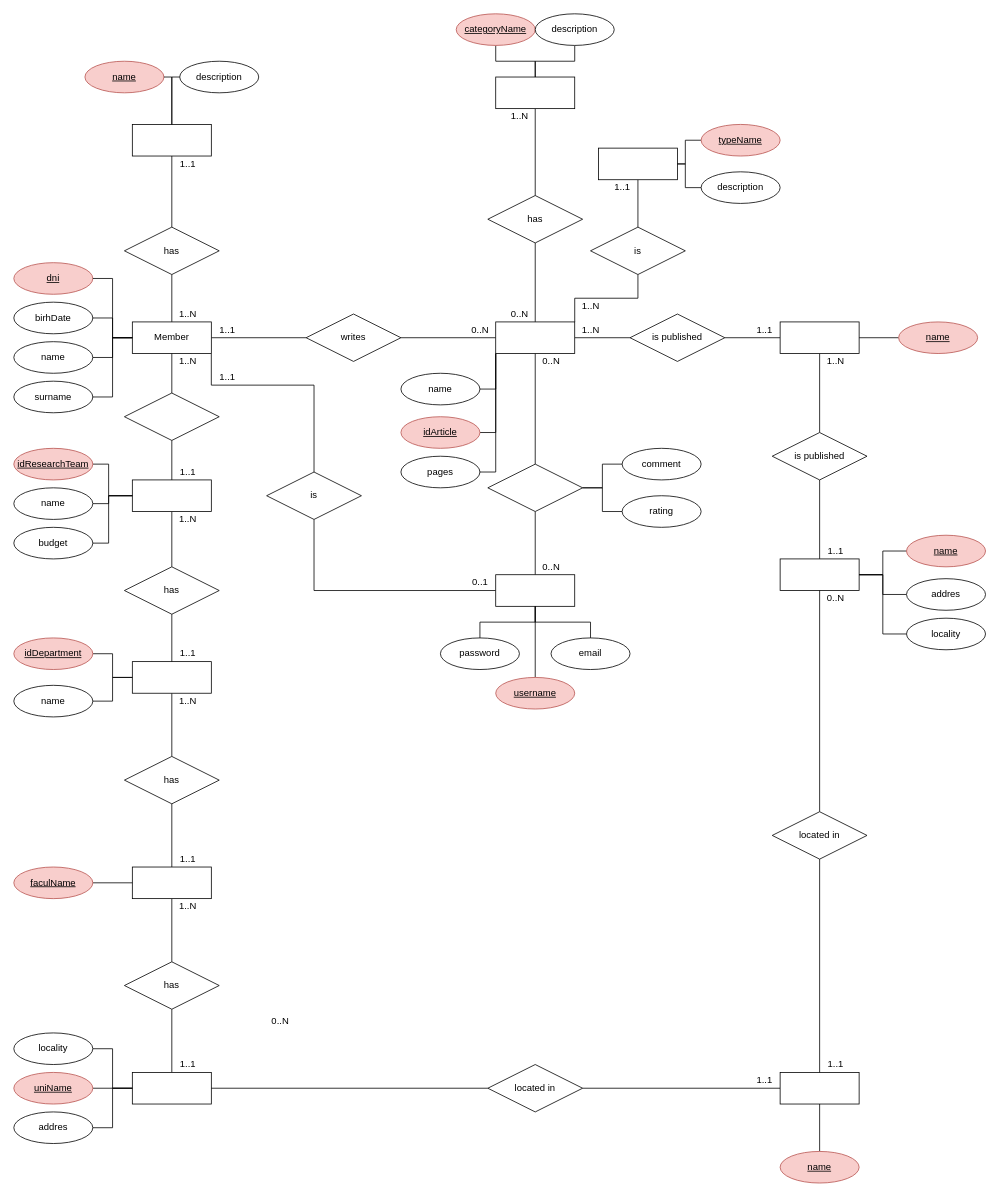
This 999x1197 diagram has some shape labels left out. The box of each missing label's shape, as (x1, y1, x2, y2) in pixels:
Article: (495, 321, 575, 354)
ArticleType: (598, 147, 677, 180)
Category: (495, 76, 575, 109)
Country: (779, 1072, 859, 1104)
Department: (132, 661, 211, 693)
Faculty: (132, 866, 211, 899)
Headquarters: (779, 558, 859, 591)
is part of: (124, 392, 219, 440)
Magazine: (779, 321, 859, 354)
rates: (487, 463, 583, 512)
ResearchTeam: (132, 479, 211, 512)
Specialization: (132, 124, 211, 156)
University: (132, 1072, 211, 1104)
User: (495, 574, 575, 606)
